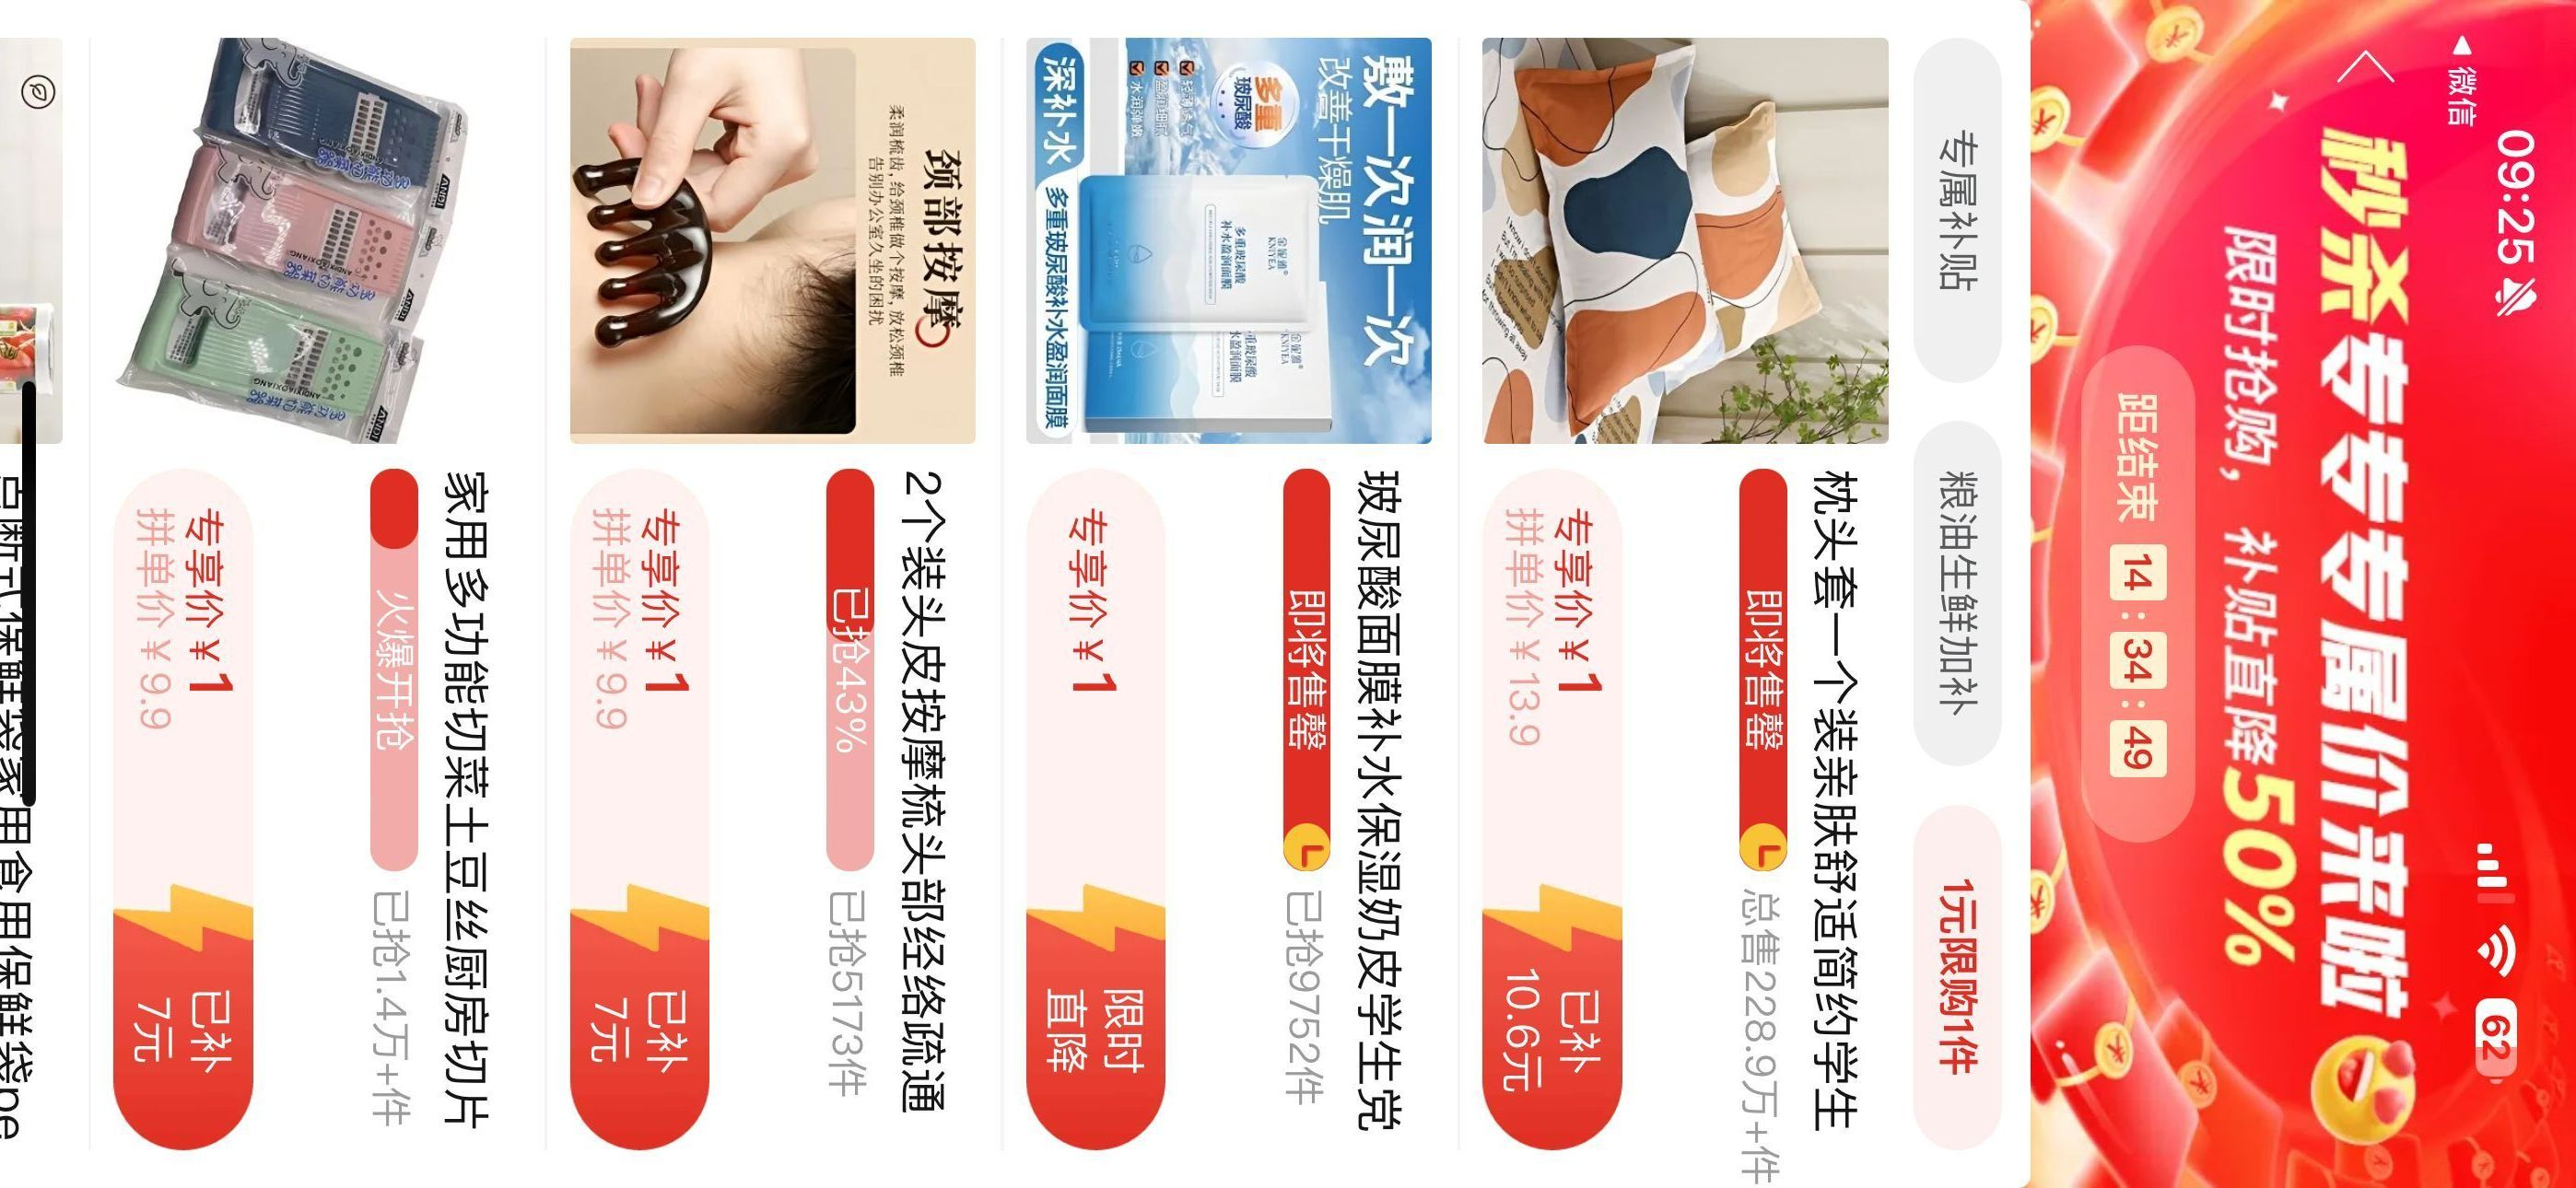item: (80, 5, 549, 1185), (999, 10, 1460, 1188), (550, 7, 997, 1188), (1464, 5, 1889, 1188)
op_bar: (2290, 7, 2436, 1170)
